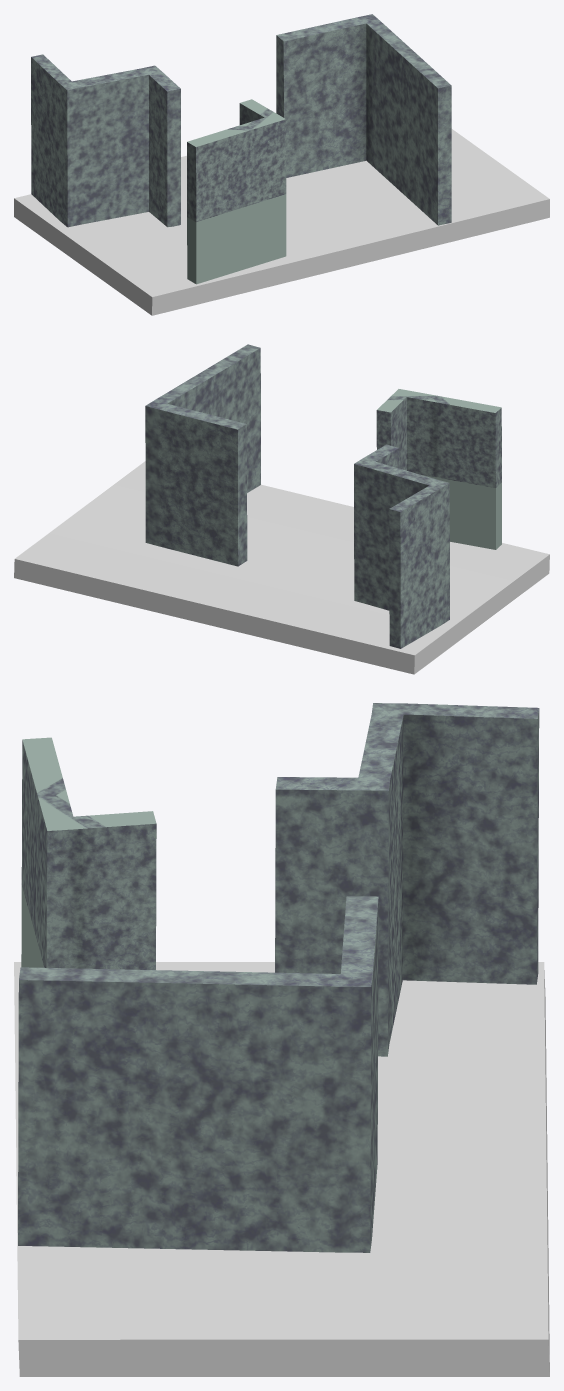
Rendered from Roof2.fbx.
3 views of the same model, one above another, from view 1: azimuth 30°, elevation 25°; view 2: azimuth 150°, elevation 25°; view 3: azimuth 270°, elevation 25° (orthographic). The views are drawn at different scales.
Parts seen in each view (by area): view 1: Cube.213, Wall3, Wall1, Wall2; view 2: Cube.213, Wall3, Wall1, Wall2; view 3: Cube.213, Wall3, Wall1, Wall2.
Part boxes in pixels (x1,y1,x2,y2): Cube.213: (14, 129, 549, 315); Wall3: (276, 14, 451, 225); Wall1: (31, 54, 180, 227); Wall2: (187, 99, 286, 284); Cube.213: (14, 461, 549, 674); Wall3: (145, 344, 260, 566); Wall1: (354, 444, 449, 648); Wall2: (376, 389, 501, 549); Cube.213: (14, 962, 549, 1376); Wall3: (18, 896, 378, 1252); Wall1: (275, 703, 539, 1056); Wall2: (21, 737, 156, 969).
Bounding box in the file's own units: 808 × 308 × 482.
Materials: 4 (3 with a texture image).
